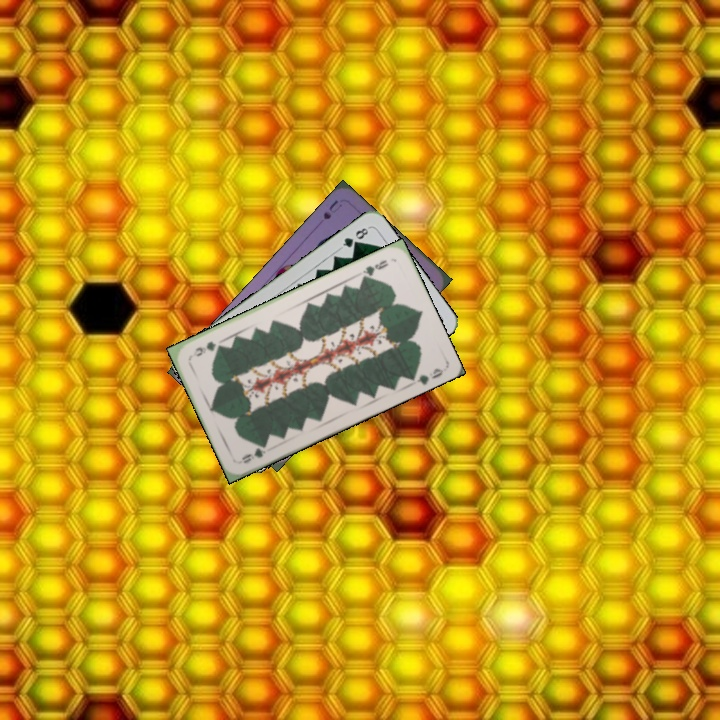G8: (337, 223, 372, 252)
G9: (237, 439, 270, 466), (358, 256, 391, 282)
SU: (319, 196, 345, 222)
